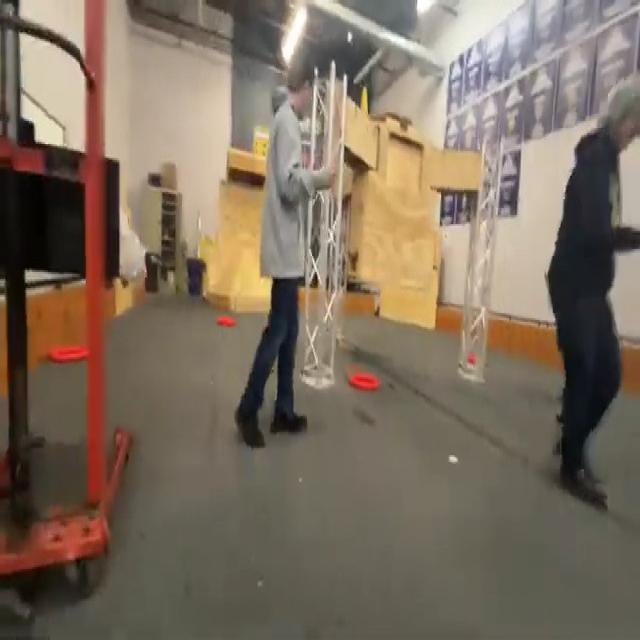note: (46, 338, 88, 366), (347, 372, 381, 392), (213, 310, 238, 332)
